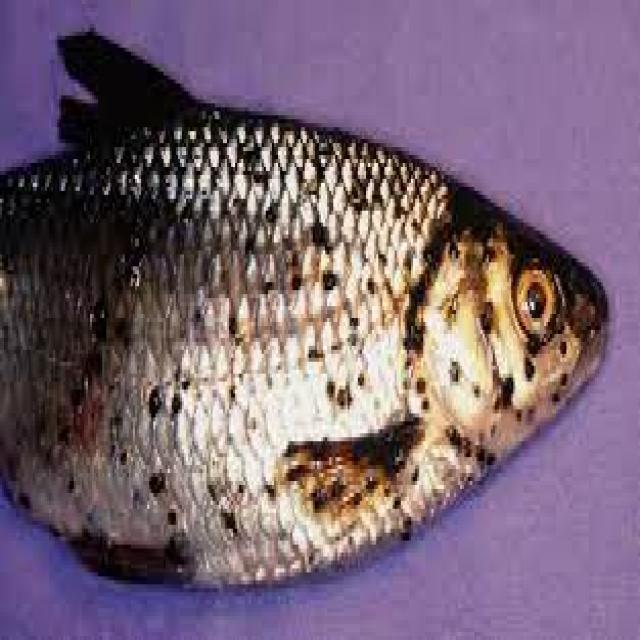EUS Disease: (2, 28, 594, 585), (12, 203, 188, 526), (218, 182, 422, 432), (48, 413, 412, 553), (432, 252, 598, 435)
